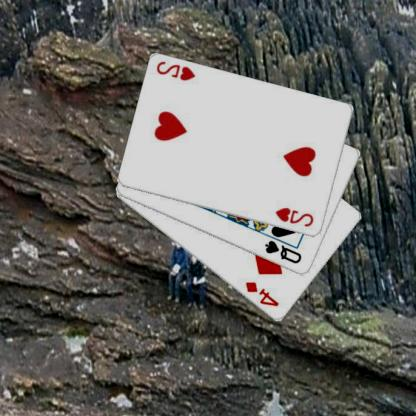2H: (274, 205, 317, 229), (156, 59, 199, 82)
4D: (244, 279, 282, 309)
QS: (264, 238, 305, 265)
